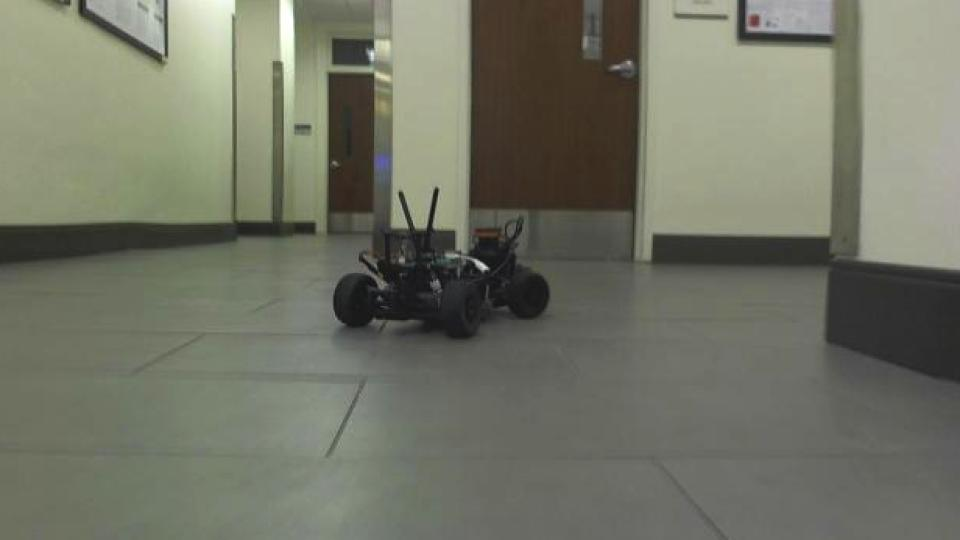car: (330, 184, 554, 340)
